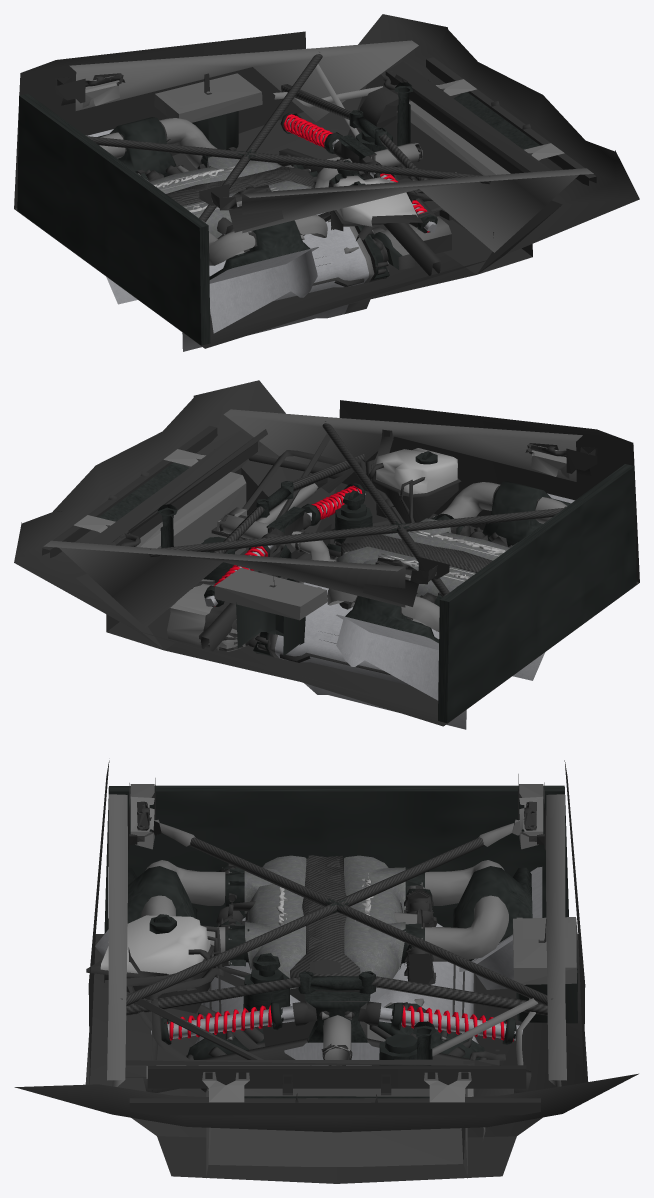
File: eng-v12-65-na.glb
The picture shows the model from 3 angles, top to bottom: view 1: azimuth 30°, elevation 25°; view 2: azimuth 150°, elevation 25°; view 3: azimuth 270°, elevation 25°; orthographic projection. The views are drawn at different scales.
Parts seen in each view (by area): view 1: Object_24; view 2: Object_24; view 3: Object_24.
Part boxes in pixels (box(x1,y1,x2,y2)): Object_24: box(14, 14, 639, 351); Object_24: box(14, 380, 639, 729); Object_24: box(14, 760, 638, 1183).
Size of the model in its own units: 1.67 by 0.7506 by 1.66.
12 materials, 4 textured.
